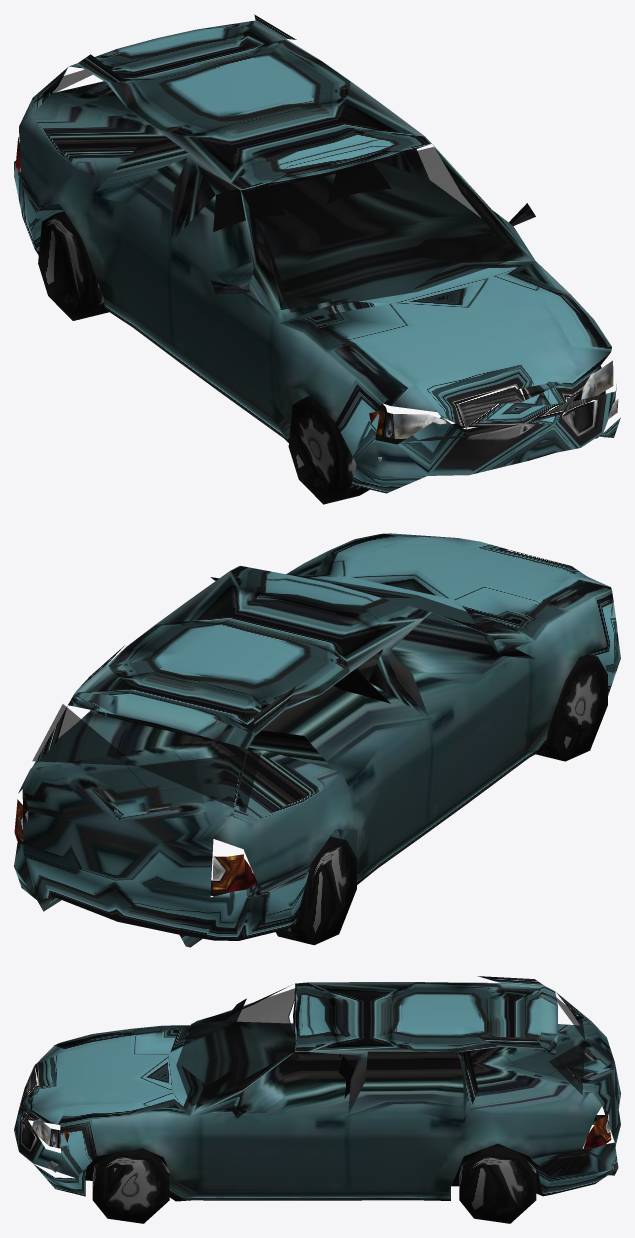
File: stationwagon_far.glb
The picture shows the model from 3 angles, top to bottom: view 1: azimuth 30°, elevation 25°; view 2: azimuth 150°, elevation 25°; view 3: azimuth 270°, elevation 25°; orthographic projection. The views are drawn at different scales.
Visible parts, largest first — view 1: body, wheel_fr, wheel_rr; view 2: body, wheel_rr, wheel_fr; view 3: body, wheel_rl, wheel_fl.
Part boxes in pixels (left/top/right/bottom): body: left=14, top=14, right=620, bottom=493; wheel_fr: left=288, top=396, right=369, bottom=504; wheel_rr: left=38, top=211, right=108, bottom=320; body: left=14, top=533, right=620, bottom=947; wheel_rr: left=275, top=836, right=356, bottom=945; wheel_fr: left=536, top=654, right=607, bottom=761; body: left=14, top=976, right=620, bottom=1201; wheel_rl: left=459, top=1143, right=536, bottom=1223; wheel_fl: left=92, top=1148, right=169, bottom=1223.
Size of the model in its own units: 2.13 by 1.47 by 4.78.
Materials: 4 (3 with a texture image).
